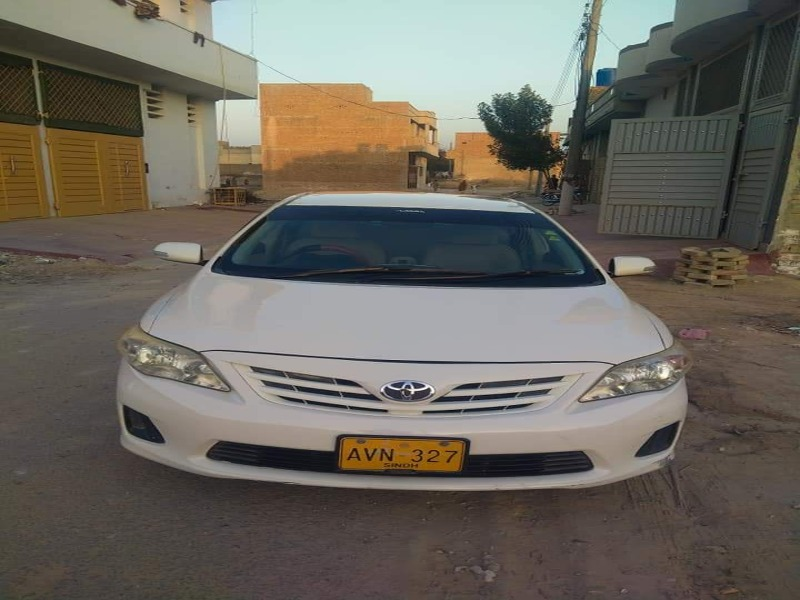License Plate: (333, 431, 469, 481)
